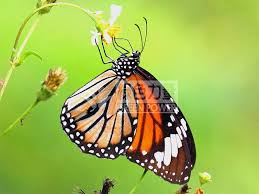butterfly: (62, 47, 192, 180)
flower: (66, 3, 124, 47), (28, 59, 68, 103)
